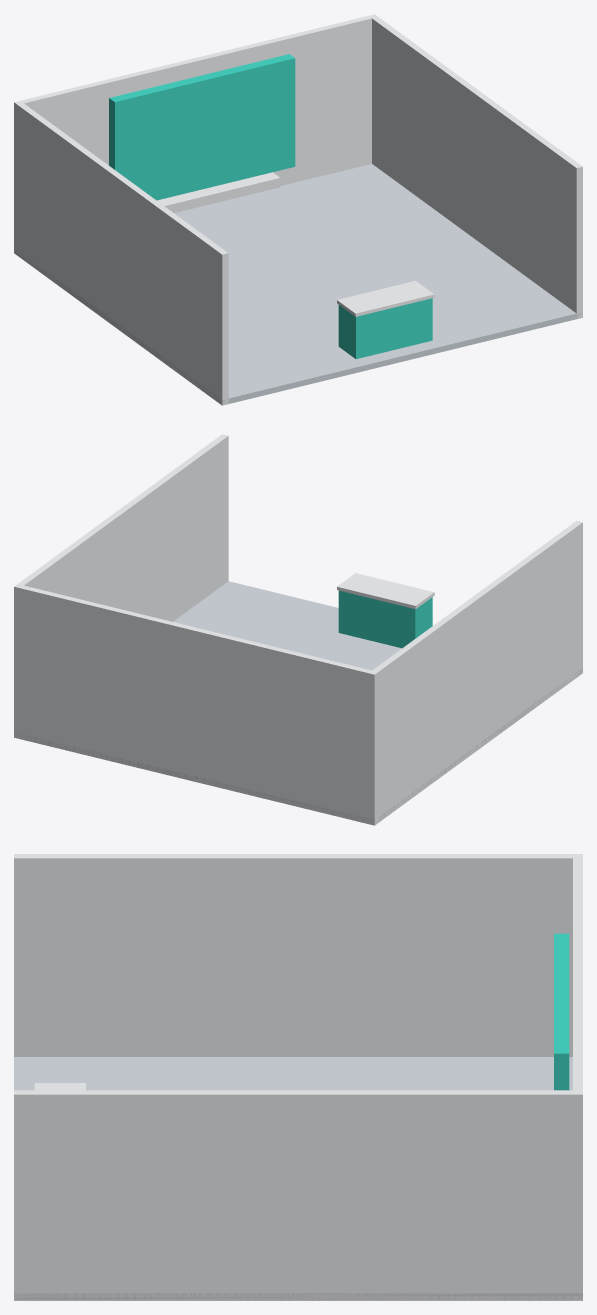
3 renders of one model, top to bottom at view 1: azimuth 30°, elevation 25°; view 2: azimuth 150°, elevation 25°; view 3: azimuth 270°, elevation 25°, orthographic. The views are drawn at different scales.
Parts seen in each view (by area): view 1: Exhibition Booth Concept; view 2: Exhibition Booth Concept; view 3: Exhibition Booth Concept.
Boxes of the visible parts, x1,y1,x2,y2 form: Exhibition Booth Concept: [14, 14, 582, 405]; Exhibition Booth Concept: [14, 434, 582, 825]; Exhibition Booth Concept: [14, 854, 582, 1300].
Bounding box in the file's own units: 8 × 3.2 × 8.
